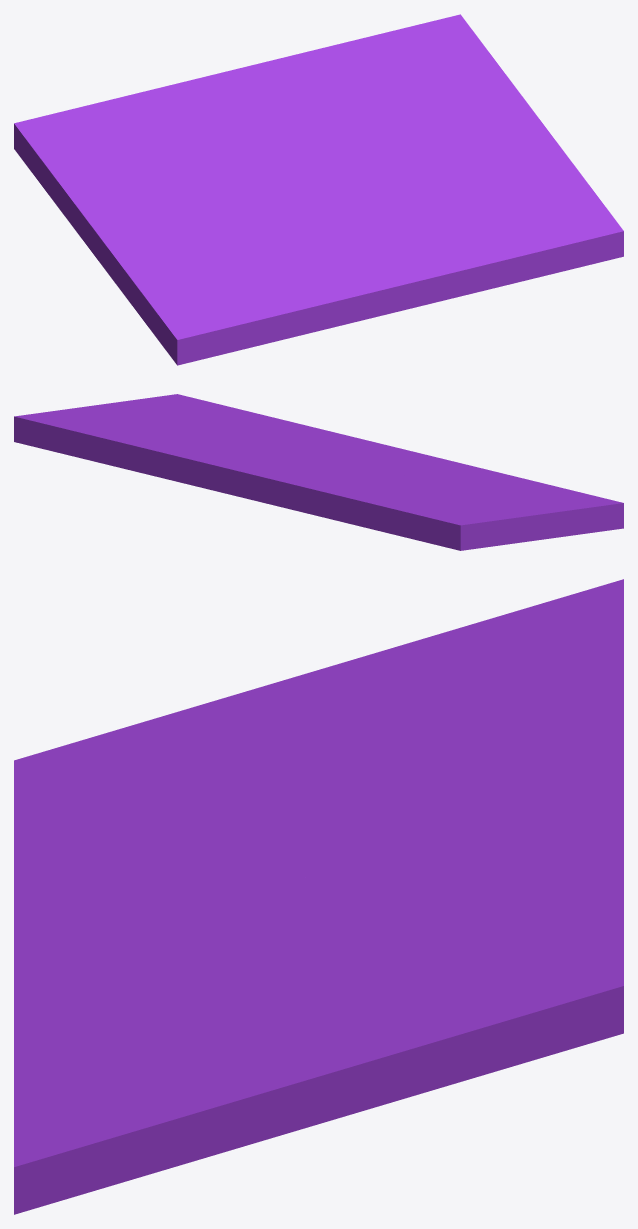
The model's file is Window_134_chunks.fbx.
3 renders of one model, top to bottom at view 1: azimuth 30°, elevation 25°; view 2: azimuth 150°, elevation 25°; view 3: azimuth 270°, elevation 25°, orthographic. The views are drawn at different scales.
Parts seen in each view (by area): view 1: Window_134_2, Window_134_1, Window_134_6, Window_134_3, Window_134_5, Window_134_4; view 2: Window_134_1, Window_134_2, Window_134_3, Window_134_6, Window_134_5, Window_134_4; view 3: Window_134_2, Window_134_1, Window_134_6, Window_134_3, Window_134_5, Window_134_4.
Boxes of the visible parts, x1,y1,x2,y2 form: Window_134_2: (272,14,623,269); Window_134_1: (14,60,319,304); Window_134_6: (302,206,569,312); Window_134_3: (131,204,305,345); Window_134_5: (163,262,393,365); Window_134_4: (279,181,408,234); Window_134_1: (201,460,582,550); Window_134_2: (14,394,323,487); Window_134_3: (382,466,622,534); Window_134_6: (247,411,442,469); Window_134_5: (438,459,623,530); Window_134_4: (295,441,400,470); Window_134_2: (14,814,623,1214); Window_134_1: (168,579,623,874); Window_134_6: (14,867,196,1104); Window_134_3: (19,715,277,868); Window_134_5: (14,759,126,924); Window_134_4: (190,839,308,961).
Bounding box in the file's own units: 1838 × 482 × 1165.
